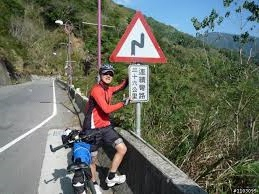Double_bend_right: (110, 11, 167, 62)
